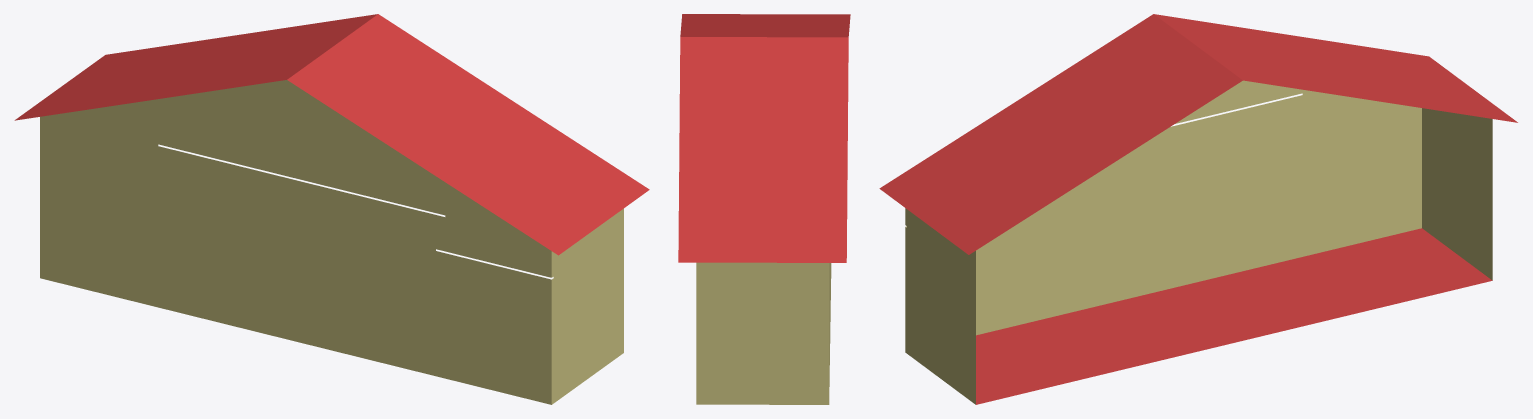
3 views of the same model, side by side, from view 1: azimuth 30°, elevation 25°; view 2: azimuth 150°, elevation 25°; view 3: azimuth 270°, elevation 25° (orthographic). The views are drawn at different scales.
Size of the model in its own units: 24.72 by 33.61 by 15.63.
